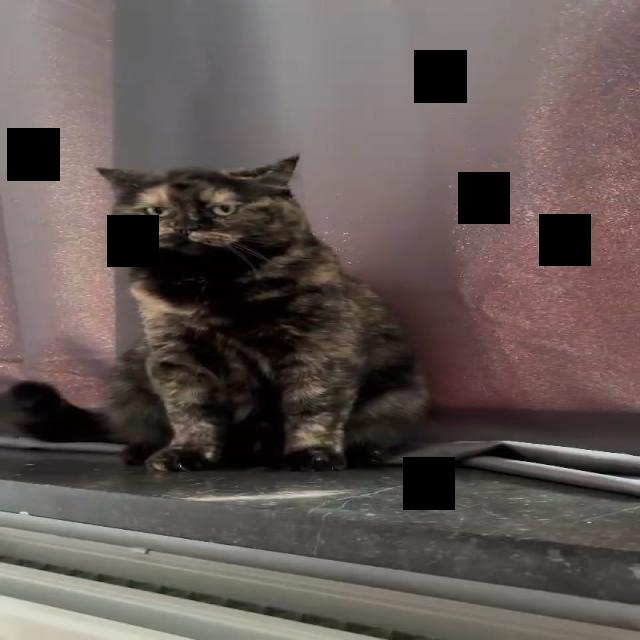authorized: (93, 152, 431, 472)
